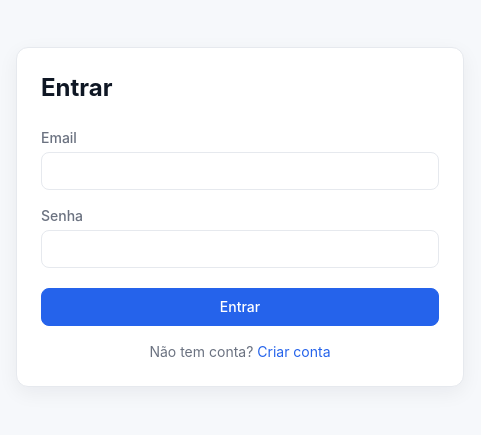
Auth Flow › shows error message on failed login
Type "test@example.com" into the field labelled "Email" at (240, 171), box [41,152,439,190]
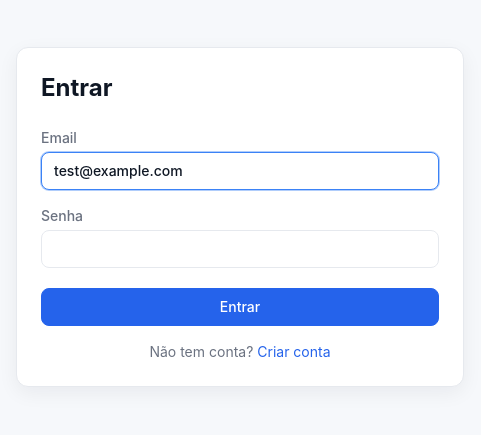
Type "senha123" into the password field labelled "Senha" at (240, 249), box [41,230,439,268]
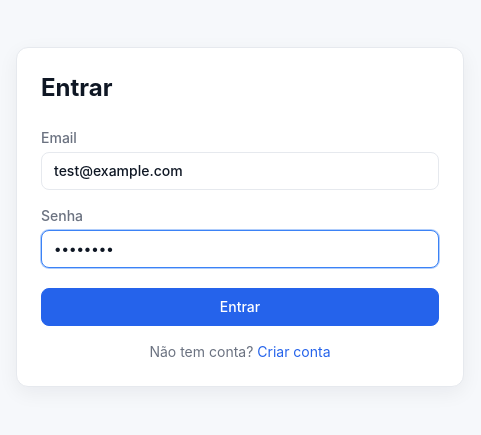
Click the button "Entrar" at (240, 307), box [41,288,439,326]
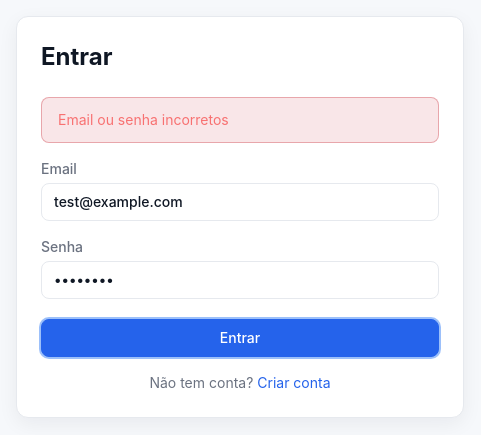
Expected: the text "Email ou senha incorretos" is shown, [41,97,439,143]
